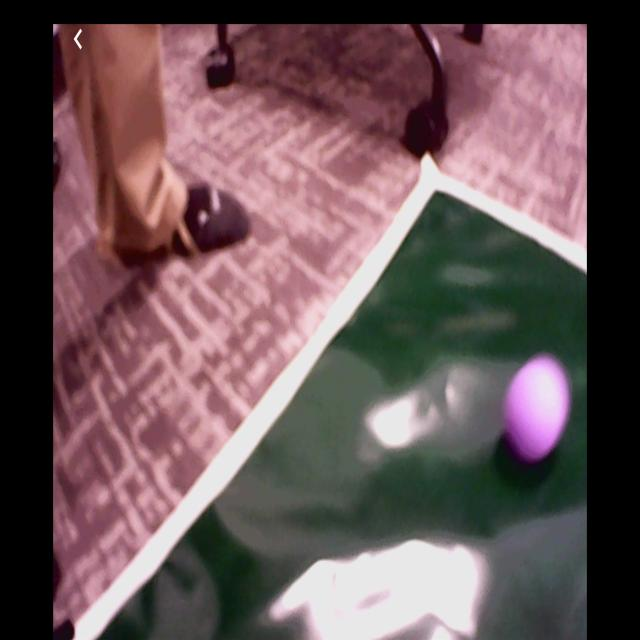ball: (505, 358, 572, 463)
